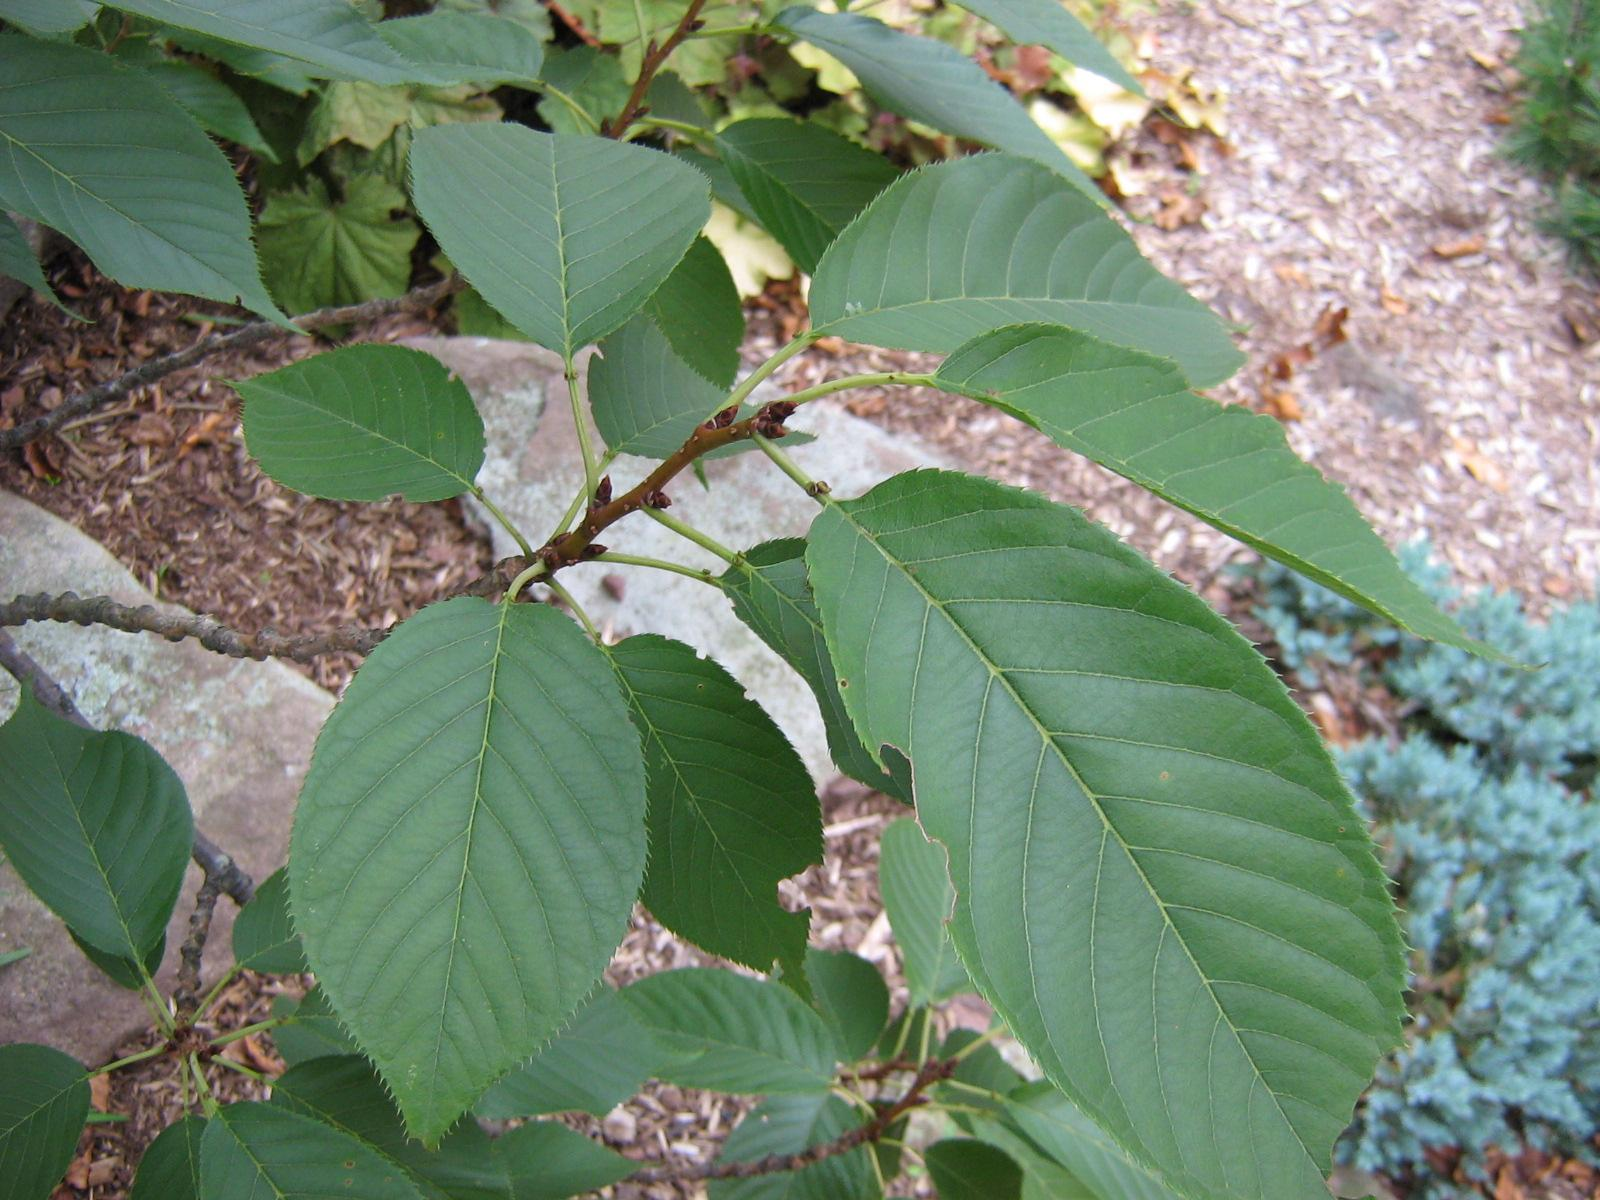Cherry leaf: (790, 444, 1456, 1200), (270, 581, 682, 1150), (946, 313, 1519, 706), (785, 144, 1296, 408), (1, 37, 343, 353), (372, 96, 746, 384), (1, 661, 193, 993), (191, 332, 496, 524)
